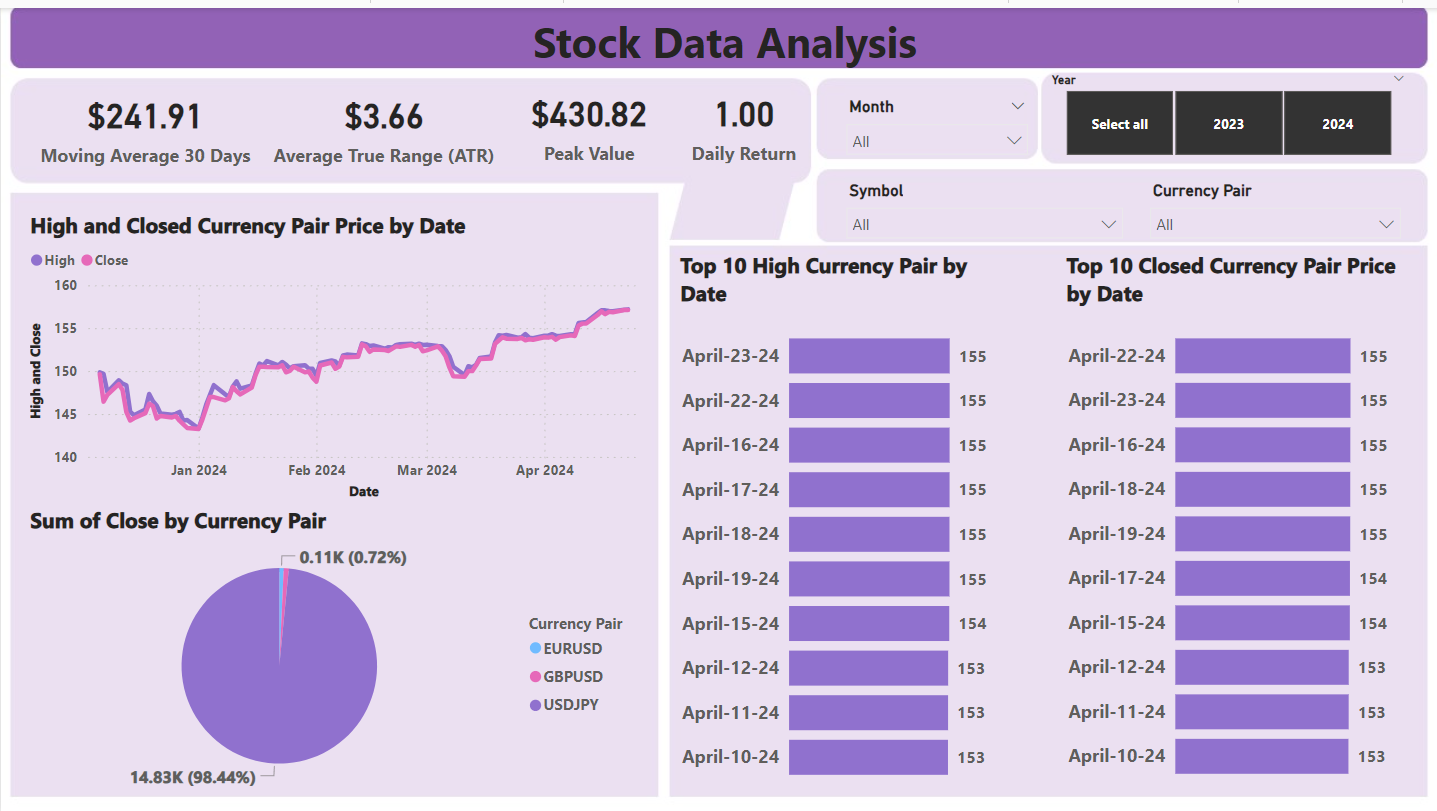

What the dashboard file says about the page in this screenshot:
{"tool":"powerbi","page":{"name":"Currency Pair","canvas":[1280,720],"ordinal":1},"visuals":[{"type":"card","fields":{"Values":["Measure.DailyReturn"]},"box":[580.8,64.8,161.4,78.3],"z":0},{"type":"slicer","fields":{"Values":["Measure.Year"]},"box":[922.8,52.3,339.5,85.7],"z":1000},{"type":"slicer","fields":{"Values":["Measure.Month"]},"box":[742.3,74.6,182.2,63.6],"z":2000},{"type":"card","fields":{"Values":["Measure.MovingAverage"]},"box":[22,64.8,212.8,81.9],"z":3000},{"type":"card","fields":{"Values":["Measure.ATR"]},"box":[234.8,64.8,212.8,81.9],"z":4000},{"type":"card","fields":{"Values":["Measure.PeakValue"]},"box":[447.6,64.8,152.9,78.3],"z":5000},{"type":"textbox","box":[22,0,1244.8,64.8],"z":6000},{"type":"lineChart","title":"High and Closed Currency Pair Price by Date","fields":{"Y":["Sum(fx_data.2. High)","Sum(fx_data.4. Close)"],"Category":["fx_data.Date"]},"box":[21.6,180.3,568.4,262.6],"z":8000},{"type":"slicer","fields":{"Values":["stock_data.Symbol"]},"box":[742.3,149.2,266.6,63.6],"z":9000},{"type":"clusteredBarChart","title":"Top 10 High Currency Pair by Date","fields":{"Y":["Sum(fx_data.High)"],"Category":["fx_data.Date"]},"box":[599.6,216,307.6,488.6],"z":10000},{"type":"clusteredBarChart","title":"Top 10 Closed Currency Pair Price by Date","fields":{"Y":["Sum(fx_data.Close)"],"Category":["fx_data.Date"]},"box":[943.6,216.4,321.7,487.7],"z":11000},{"type":"slicer","fields":{"Values":["fx_data.Column1"]},"box":[1012.5,149.2,243.3,63.6],"z":12000},{"type":"pieChart","fields":{"Y":["Sum(fx_data.Close)"],"Series":["fx_data.Currency Pair"]},"box":[21.6,442.9,559.8,261.1],"z":13000}]}

Visuals, with their boxes in screenshot pixels (x1, y1, x2, y2), scaled from the page's 1280x720 canvas onto the 1437x811 screenshot:
card - Measure.DailyReturn: crop(652, 73, 833, 161)
slicer - Measure.Year: crop(1036, 59, 1417, 155)
slicer - Measure.Month: crop(833, 84, 1038, 156)
card - Measure.MovingAverage: crop(25, 73, 264, 165)
card - Measure.ATR: crop(264, 73, 503, 165)
card - Measure.PeakValue: crop(503, 73, 674, 161)
textbox: crop(25, 0, 1422, 73)
"High and Closed Currency Pair Price by Date" lineChart: crop(24, 203, 662, 499)
slicer - stock_data.Symbol: crop(833, 168, 1133, 240)
"Top 10 High Currency Pair by Date" clusteredBarChart: crop(673, 243, 1018, 794)
"Top 10 Closed Currency Pair Price by Date" clusteredBarChart: crop(1059, 244, 1420, 793)
slicer - fx_data.Column1: crop(1137, 168, 1410, 240)
pieChart - Sum(fx_data.Close) x fx_data.Currency Pair: crop(24, 499, 653, 793)
